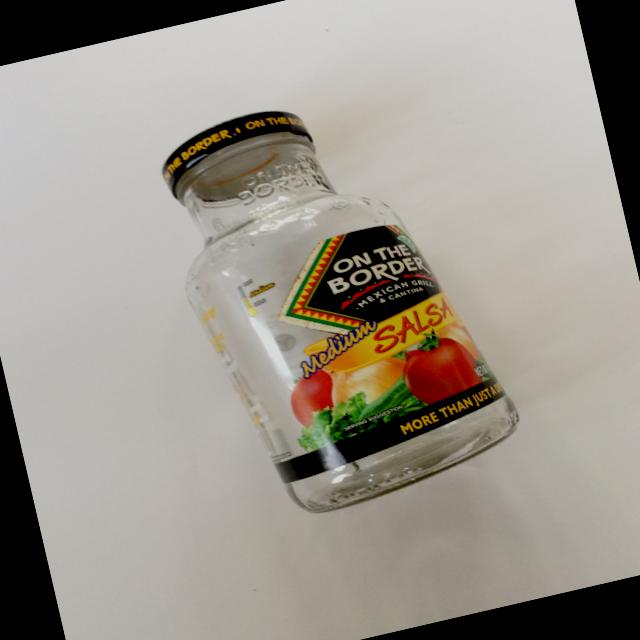Glass: (124, 53, 540, 549)
